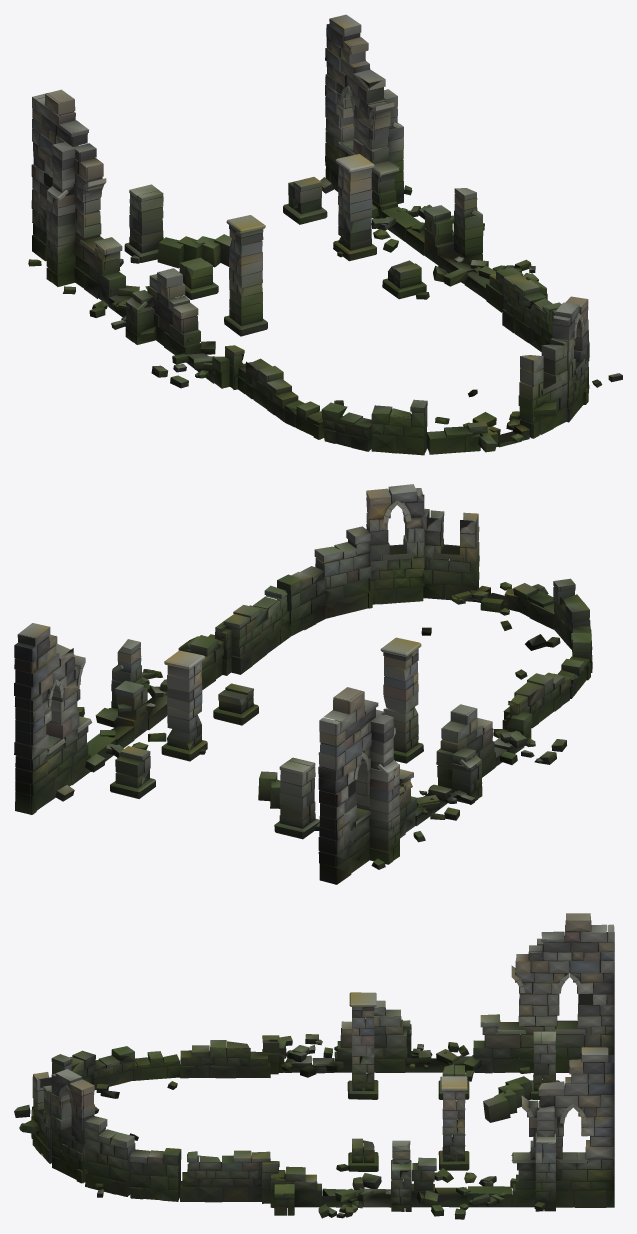
The model's file is hollow_crypt_entrance_walls.glb.
The picture shows the model from 3 angles, top to bottom: view 1: azimuth 30°, elevation 25°; view 2: azimuth 150°, elevation 25°; view 3: azimuth 270°, elevation 25°; orthographic projection. The views are drawn at different scales.
Visible parts, largest first — view 1: Entrance_Nave; view 2: Entrance_Nave; view 3: Entrance_Nave.
Part boxes in pixels (x1,y1,x2,y2): Entrance_Nave: (28, 14, 622, 455); Entrance_Nave: (14, 484, 592, 884); Entrance_Nave: (14, 913, 614, 1219).
Bounding box in the file's own units: 23.45 × 9.54 × 33.55.
